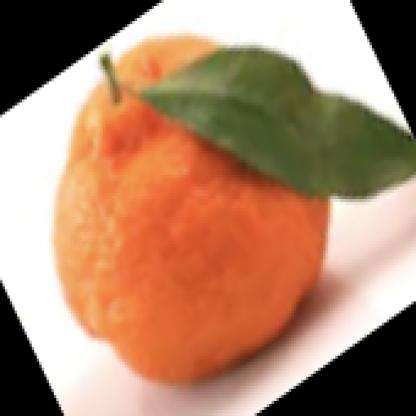fresh: (55, 33, 332, 384)
